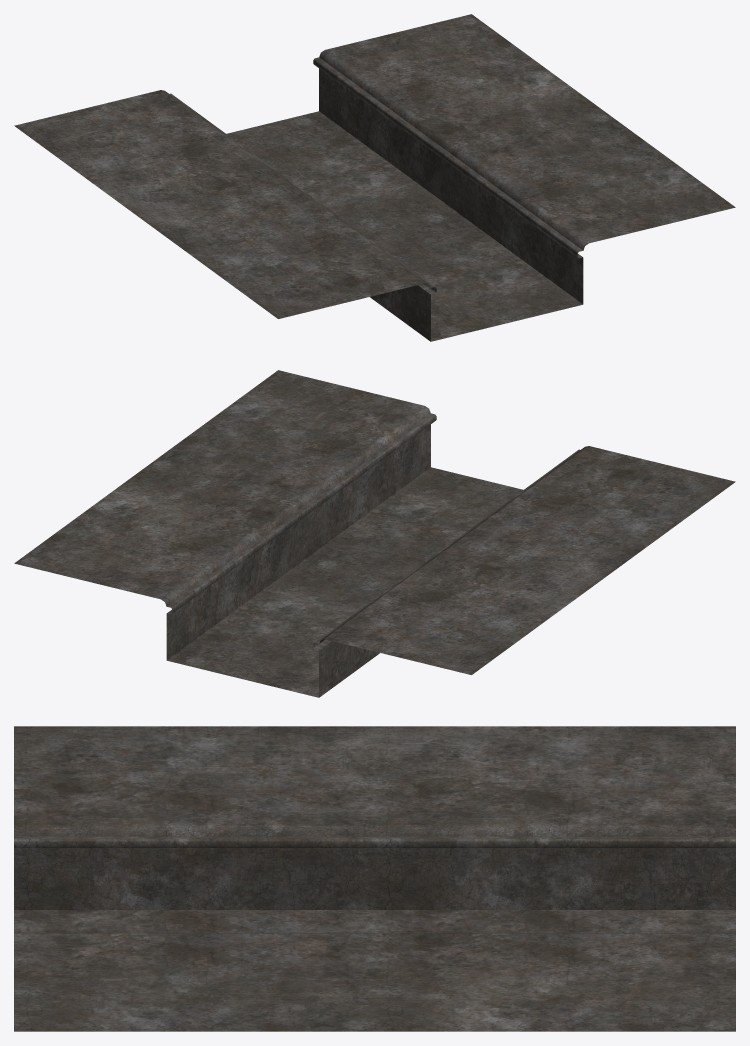
Rendered from Basement_Corridor_A_Floor_4x4m_Vent.glb.
3 renders of one model, top to bottom at view 1: azimuth 30°, elevation 25°; view 2: azimuth 150°, elevation 25°; view 3: azimuth 270°, elevation 25°, orthographic. The views are drawn at different scales.
Visible parts, largest first — view 1: Basement_Corridor_A_Floor_4x4m_Vent; view 2: Basement_Corridor_A_Floor_4x4m_Vent; view 3: Basement_Corridor_A_Floor_4x4m_Vent.
Part boxes in pixels (x1,y1,x2,y2): Basement_Corridor_A_Floor_4x4m_Vent: (14,14,735,341); Basement_Corridor_A_Floor_4x4m_Vent: (14,370,735,697); Basement_Corridor_A_Floor_4x4m_Vent: (14,726,735,1031).
Bounding box in the file's own units: 4 × 0.5 × 4.
1 material, 1 textured.
